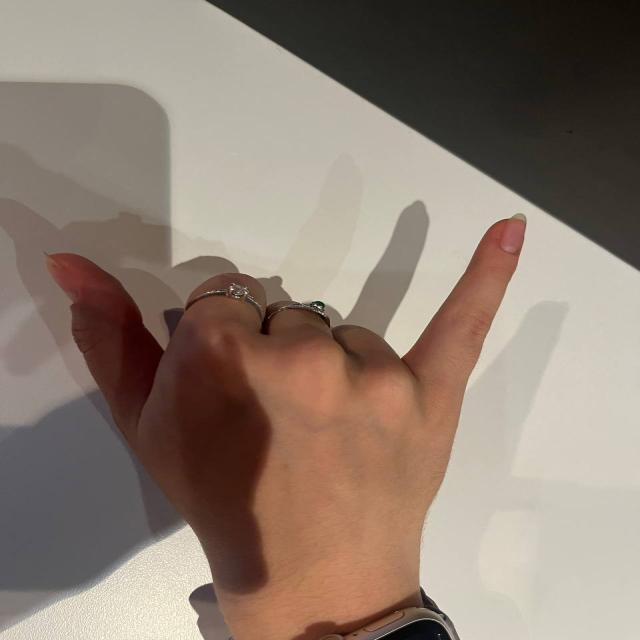u: (33, 183, 584, 527)
